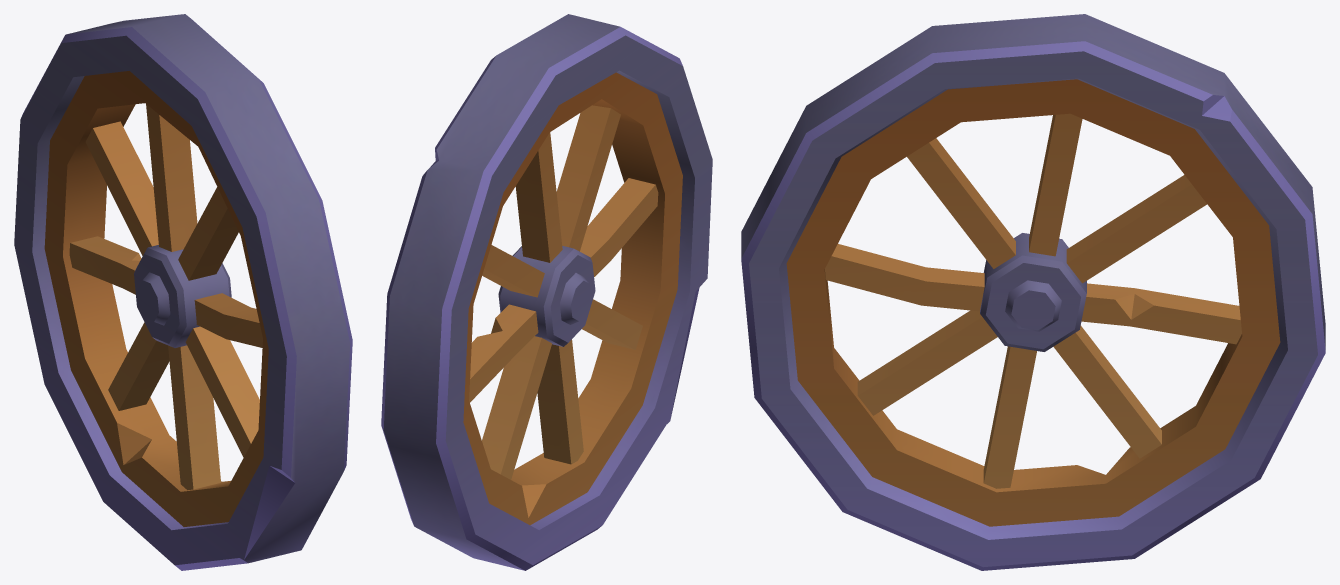
The model's file is Wheel_D.glb.
3 views of the same model, side by side, from view 1: azimuth 30°, elevation 25°; view 2: azimuth 150°, elevation 25°; view 3: azimuth 270°, elevation 25° (orthographic). The views are drawn at different scales.
Visible parts, largest first — view 1: Wheel_D; view 2: Wheel_D; view 3: Wheel_D.
Part boxes in pixels (left/top/right/bottom): Wheel_D: left=14, top=14, right=352, bottom=570; Wheel_D: left=381, top=14, right=712, bottom=570; Wheel_D: left=741, top=14, right=1325, bottom=570.
Size of the model in its own units: 0.1375 by 0.95 by 0.95.
Materials: 2 (2 with a texture image).
